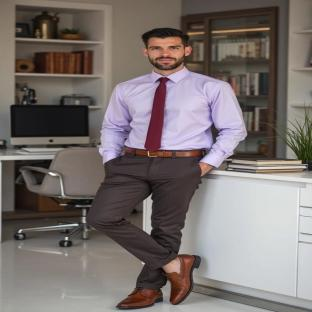Human: (87, 28, 246, 309)
